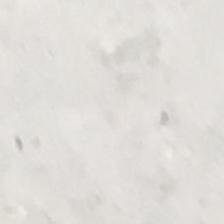Non_Crack: (32, 16, 224, 224)
